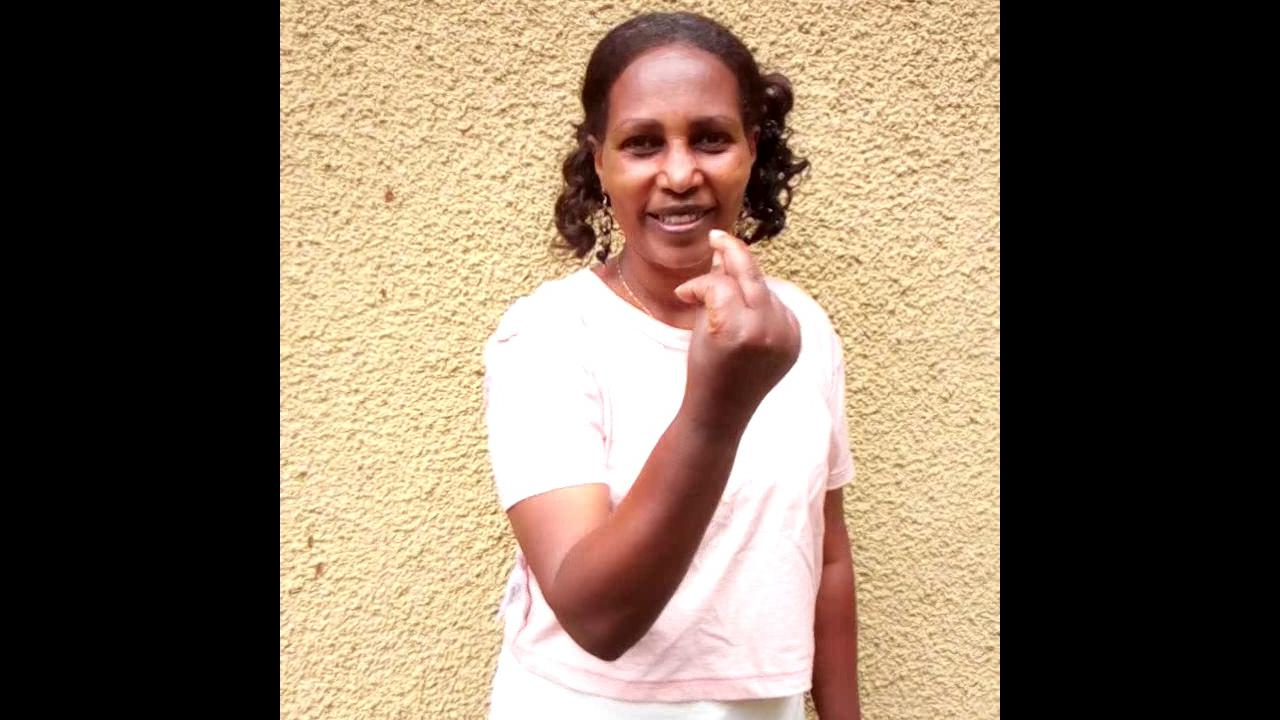CHE: (673, 231, 809, 504)
